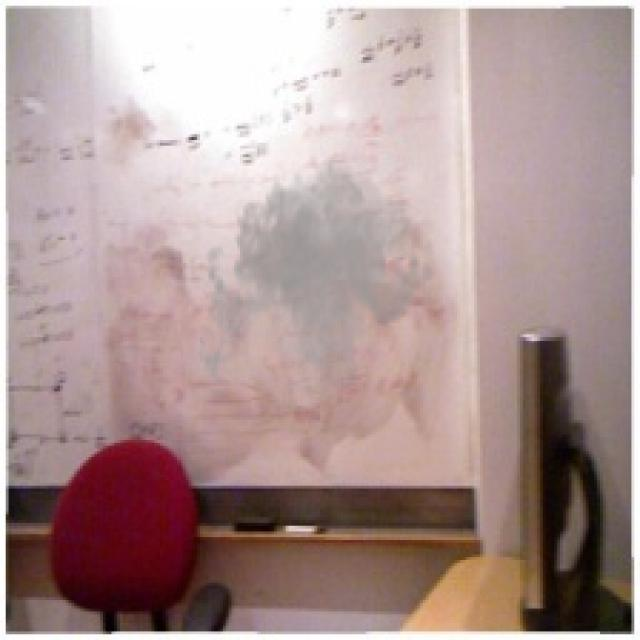Smoke: (192, 148, 438, 420)
